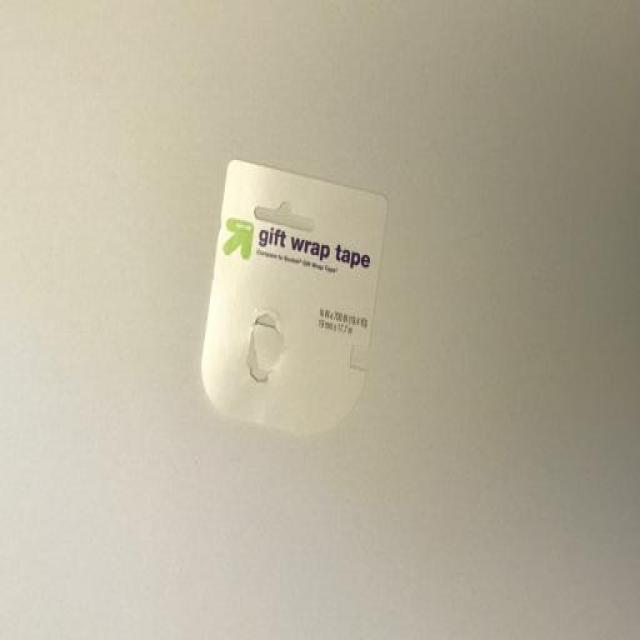paper: (193, 147, 396, 450)
